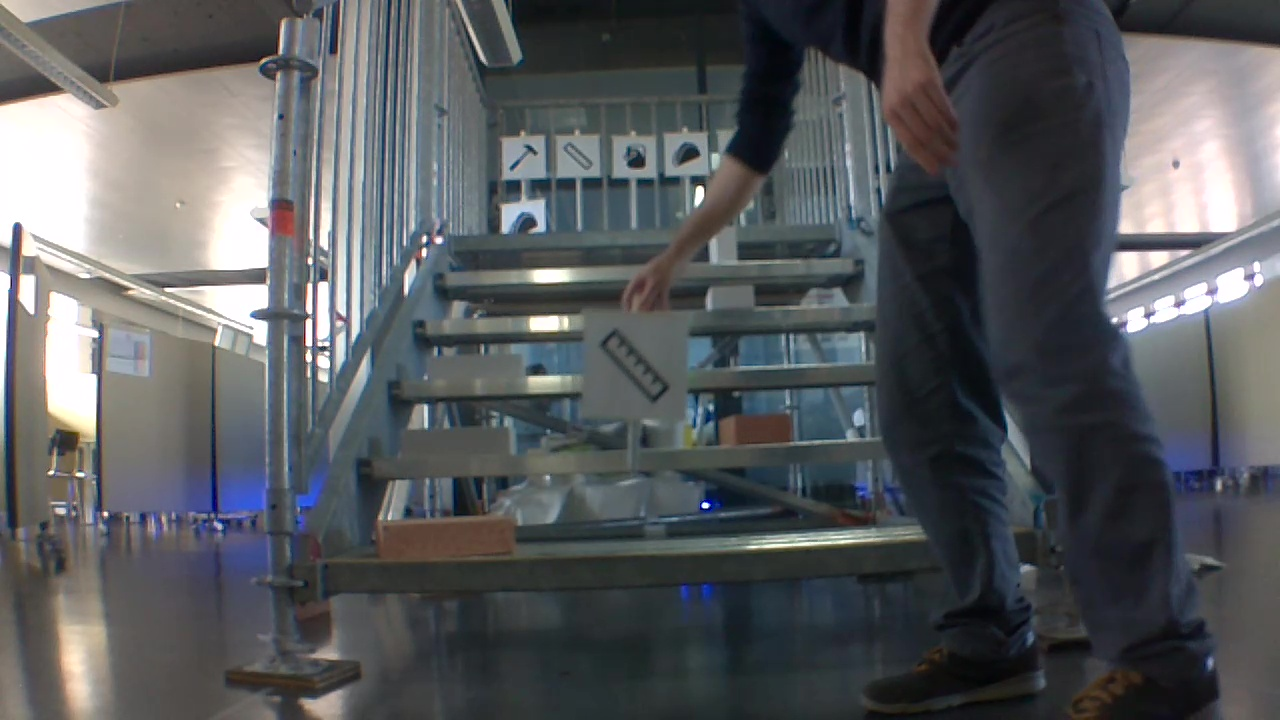brick: (376, 512, 511, 552), (398, 427, 514, 454), (425, 352, 526, 382), (722, 411, 794, 446), (703, 282, 756, 311), (709, 224, 735, 266)
bucket: (623, 141, 647, 172)
edge: (317, 542, 930, 598), (358, 440, 888, 486)
hammer: (507, 143, 542, 173)
ruler: (598, 328, 673, 408), (560, 143, 591, 173)
taco: (673, 138, 700, 168), (513, 208, 537, 235)
